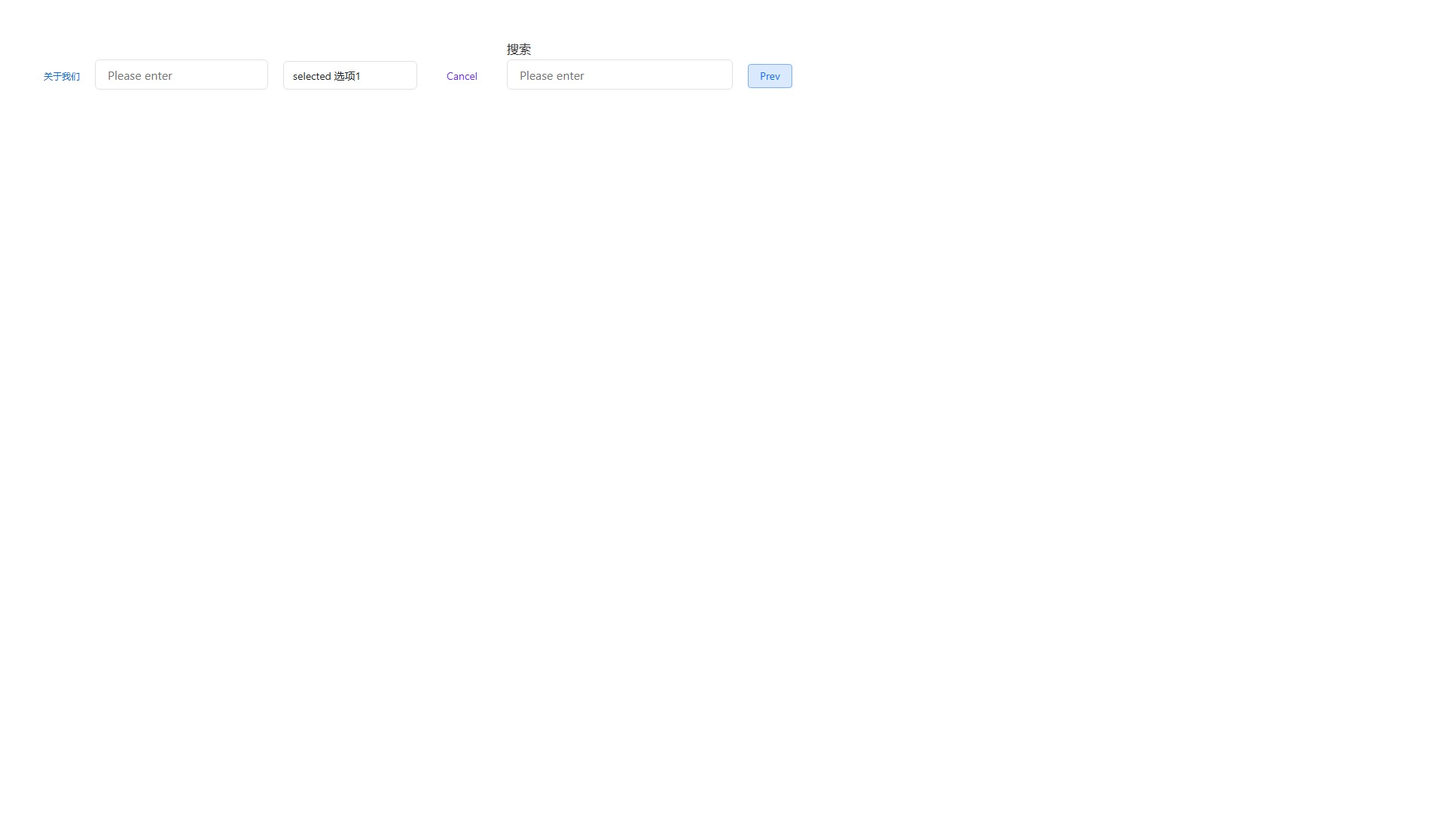button: (432, 61, 492, 90), (748, 64, 792, 88)
input: (507, 59, 733, 90), (95, 59, 268, 90)
link: (44, 70, 80, 82)
select: (283, 61, 417, 90)
